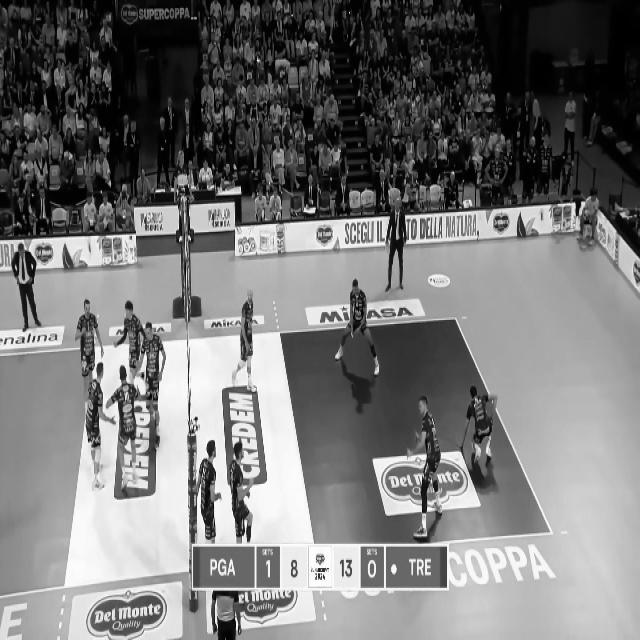volleyball court: (0, 316, 551, 600)
